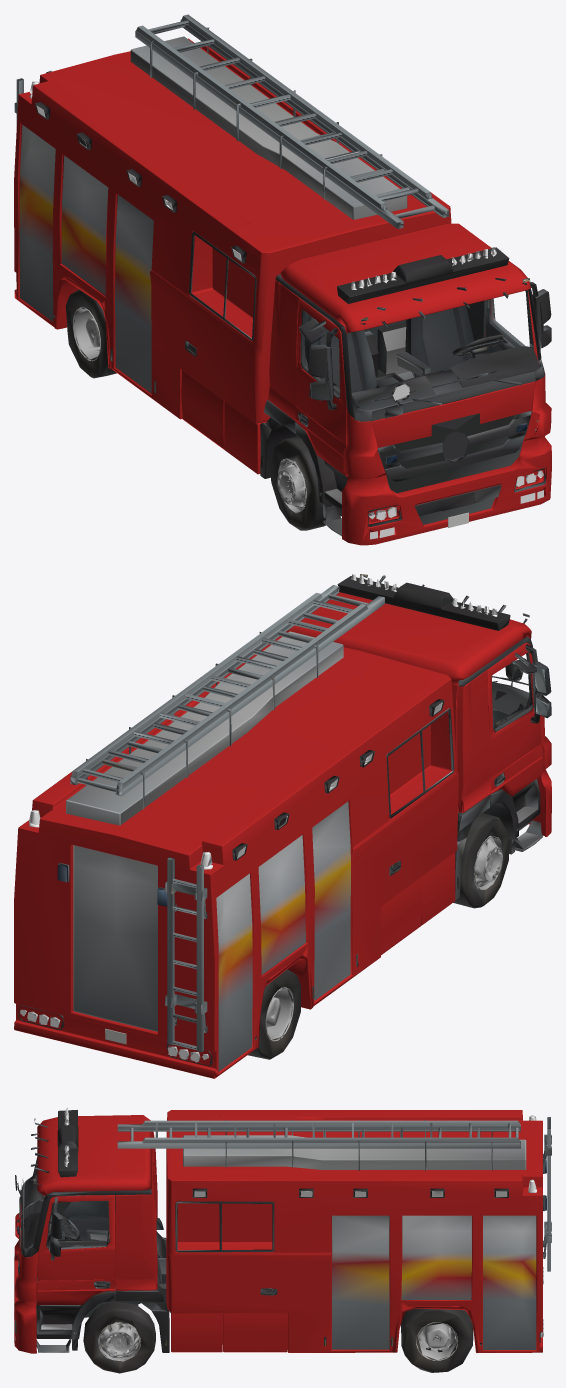
3 renders of one model, top to bottom at view 1: azimuth 30°, elevation 25°; view 2: azimuth 150°, elevation 25°; view 3: azimuth 270°, elevation 25°, orthographic. The views are drawn at different scales.
Visible parts, largest first — view 1: body, wheel_FL, wheel_RL; view 2: body, wheel_FL, wheel_RL; view 3: body, wheel_FR, wheel_RR.
Boxes of the visible parts, x1,y1,x2,y2 form: body: [14, 14, 551, 545]; wheel_FL: [270, 436, 325, 530]; wheel_RL: [65, 289, 116, 378]; body: [14, 574, 551, 1078]; wheel_FL: [453, 813, 508, 908]; wheel_RL: [248, 969, 300, 1059]; body: [14, 1108, 551, 1353]; wheel_FR: [83, 1301, 155, 1373]; wheel_RR: [401, 1308, 473, 1372].
Size of the model in its own units: 3.38 by 3.82 by 8.47.
